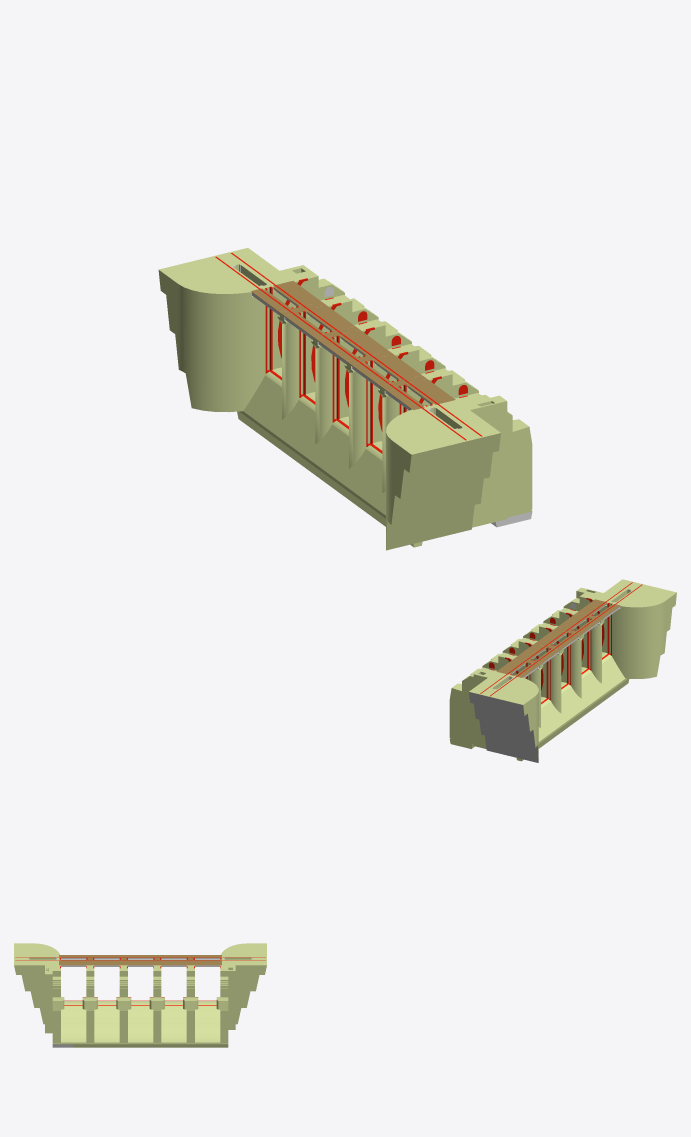
File: GATE.glb
3 renders of one model, top to bottom at view 1: azimuth 30°, elevation 25°; view 2: azimuth 150°, elevation 25°; view 3: azimuth 270°, elevation 25°, orthographic. The views are drawn at different scales.
Parts seen in each view (by area): view 1: Object.090, Object.102, Object.094, Object.096, Object.104, Object.098, Object.086, Object.092, Object.070; view 2: Object.090, Object.101, Object.102, Object.096, Object.094, Object.092, Object.086, Object.098, Object.104; view 3: Object.102, Object.090, Object.094, Object.104, Object.092, Object.096, Object.098, Object.086.
Boxes of the visible parts, x1,y1,x2,y2 form: Object.090: (386,401,532,550); Object.102: (158,264,364,433); Object.094: (324,344,464,507); Object.096: (291,319,431,482); Object.104: (257,295,397,458); Object.098: (159,248,318,293); Object.086: (386,393,506,454); Object.092: (358,368,489,526); Object.070: (321,322,400,429); Object.090: (552,589,676,691); Object.101: (469,692,538,762); Object.102: (449,672,538,761); Object.096: (491,637,576,736); Object.094: (511,623,596,721); Object.092: (531,608,616,707); Object.086: (577,579,676,607); Object.098: (469,667,538,704); Object.104: (470,652,555,748); Object.102: (207,957,266,1047); Object.090: (14,957,73,1044); Object.094: (107,965,140,1047); Object.104: (174,965,207,1047); Object.092: (73,965,106,1047); Object.096: (140,965,173,1047); Object.098: (220,943,266,970); Object.086: (14,943,60,974).
Size of the model in its own units: 3.04 by 1.01 by 8.14.
